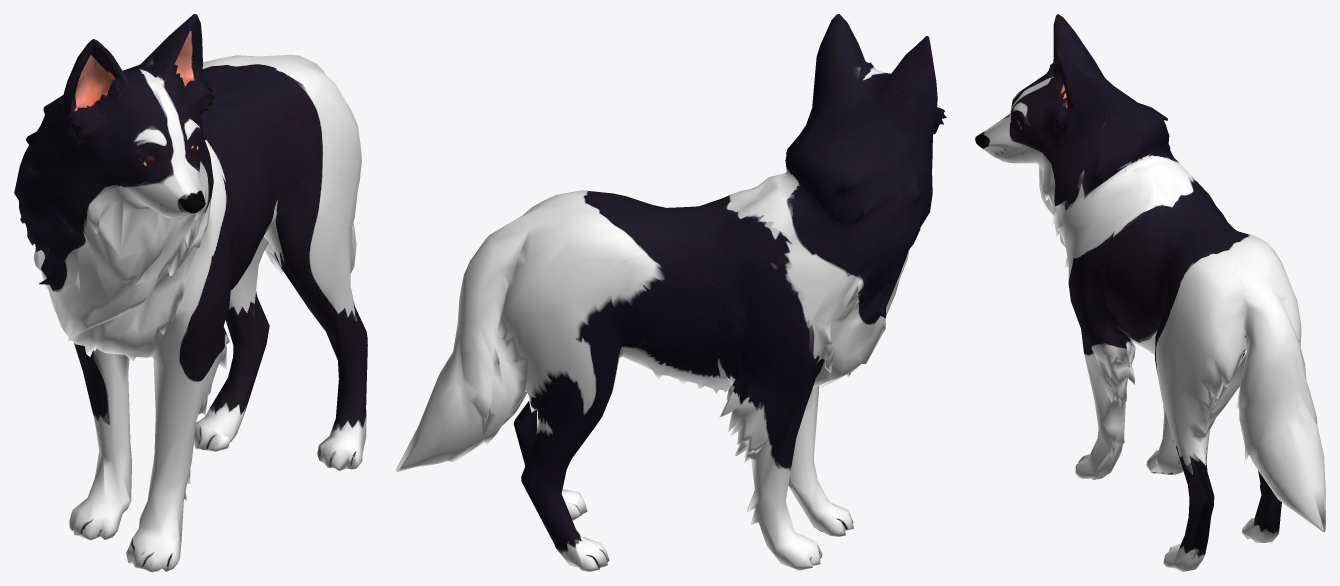
Rendered from collie.glb.
The picture shows the model from 3 angles, left to right: view 1: azimuth 30°, elevation 25°; view 2: azimuth 150°, elevation 25°; view 3: azimuth 270°, elevation 25°; orthographic projection. The views are drawn at different scales.
Bounding box in the file's own units: 1.62 × 1.91 × 1.41.
Materials: 1 (1 with a texture image).
